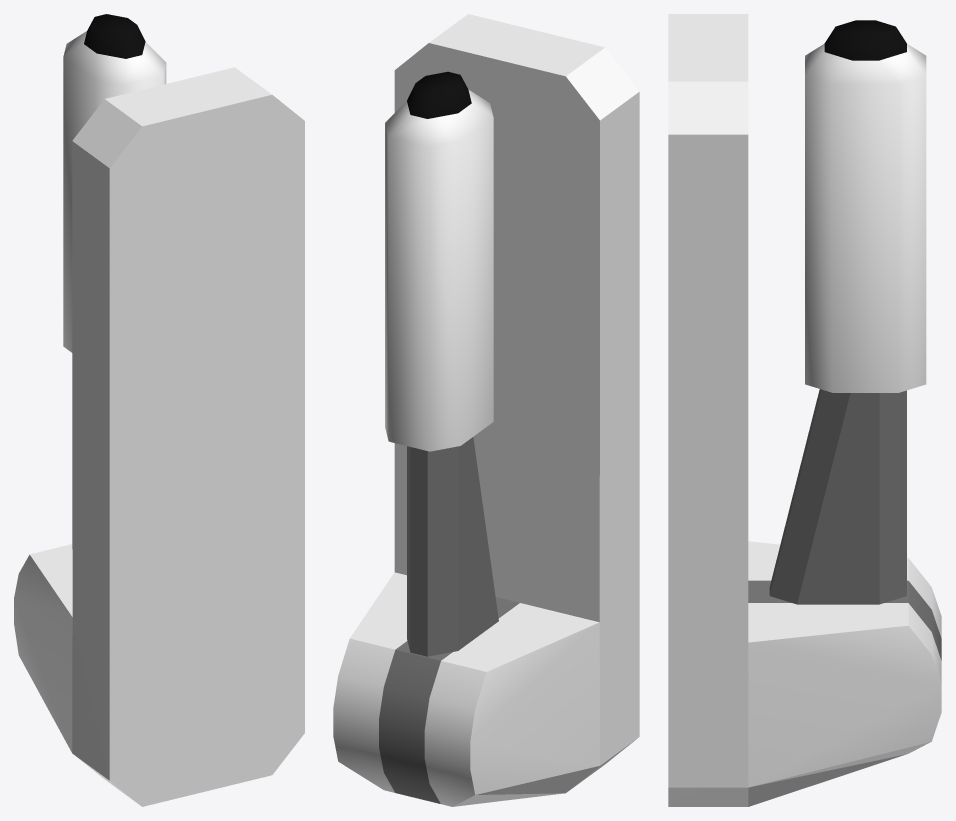
File: Swi_ShouSha_on.FBX
The picture shows the model from 3 angles, left to right: view 1: azimuth 30°, elevation 25°; view 2: azimuth 150°, elevation 25°; view 3: azimuth 270°, elevation 25°; orthographic projection. The views are drawn at different scales.
Visible parts, largest first — view 1: 对象002; view 2: 对象002; view 3: 对象002.
Boxes of the visible parts, <box> form: 对象002: <box>14,14,304,806</box>; 对象002: <box>333,14,639,806</box>; 对象002: <box>668,14,941,806</box>.
Bounding box in the file's own units: 6 × 20.5 × 6.83.
